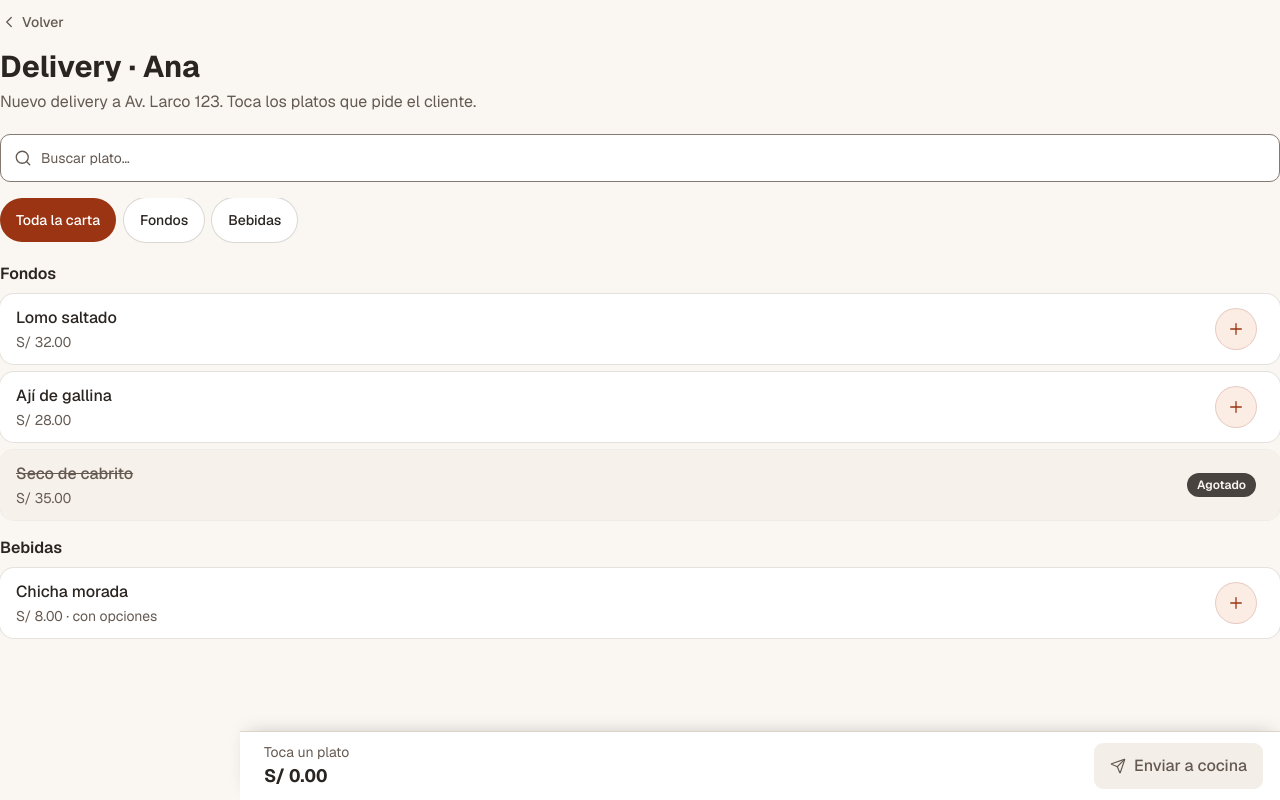
NewOrderView › un delivery lleva el cliente de la libreta y sus datos de entrega
The width and height of the screenshot is (1280, 800).
Check: the heading "Delivery · Ana" is shown, box [0, 47, 200, 86]
Check: the text "Nuevo delivery a Av. Larco 123. Toca los platos que pide el cliente." is shown, box [0, 90, 476, 112]
What coordinates should you click on to do the following:
click the button "Lomo saltado S/ 32.00"
I would click on:
 (66, 317)
Its box is [0, 294, 1272, 364].
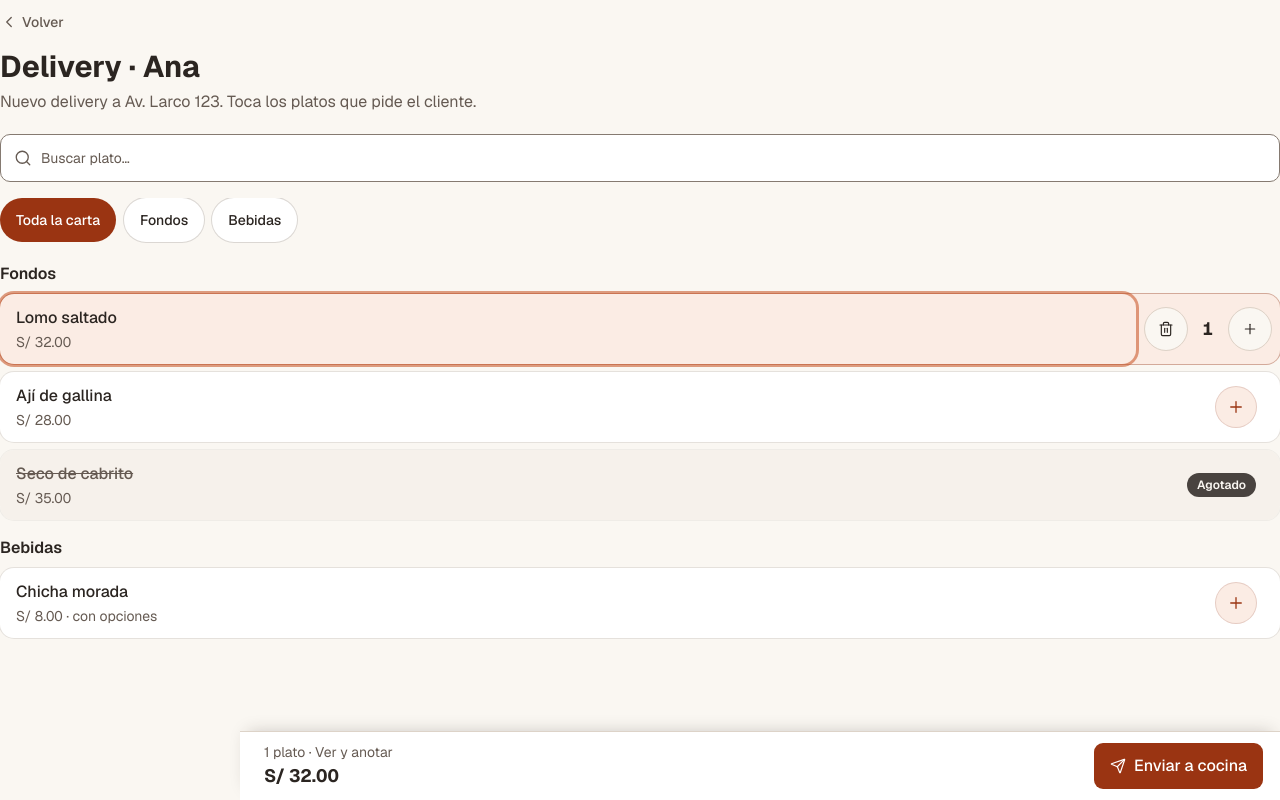
What coordinates should you click on to do the following:
click the button "Enviar a cocina"
I would click on:
 (1178, 766)
Its box is [1093, 742, 1264, 790].
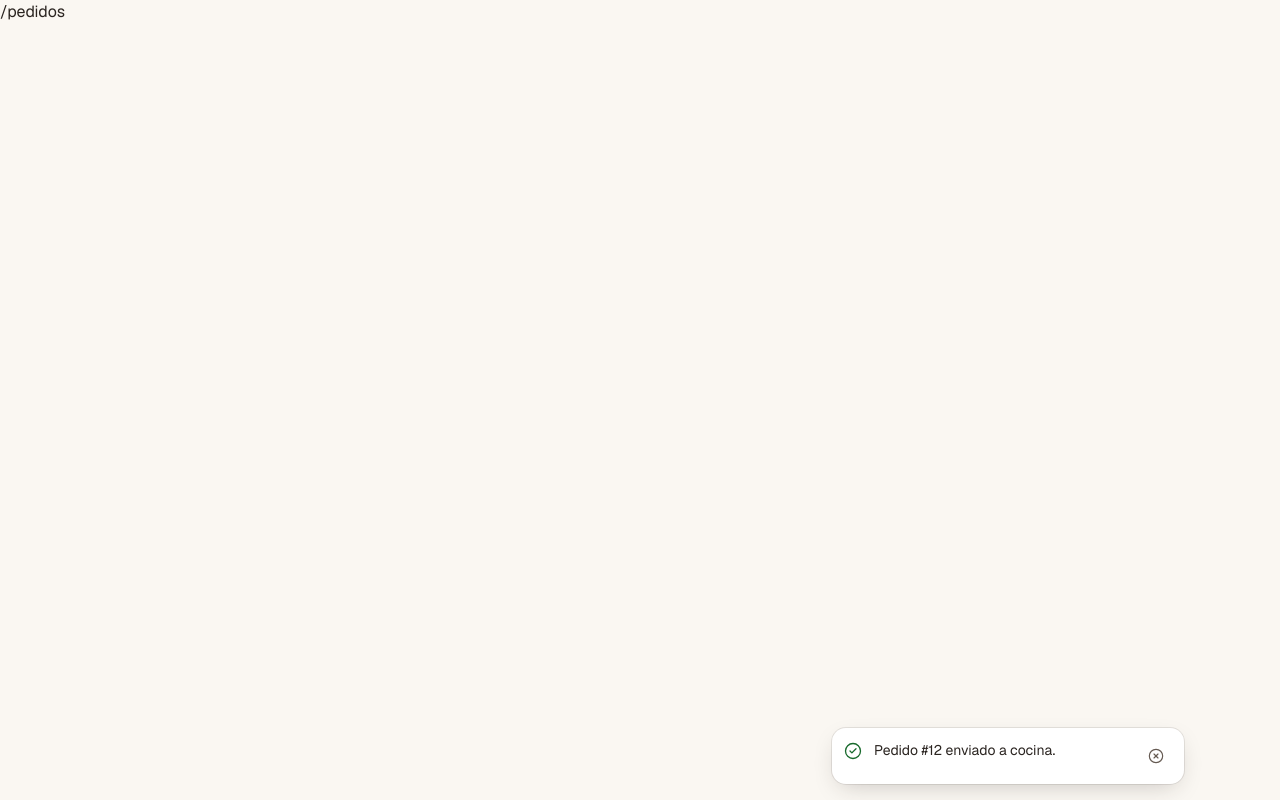
Check: the text "Pedido #12 enviado a cocina." is shown, box [874, 741, 1055, 759]
